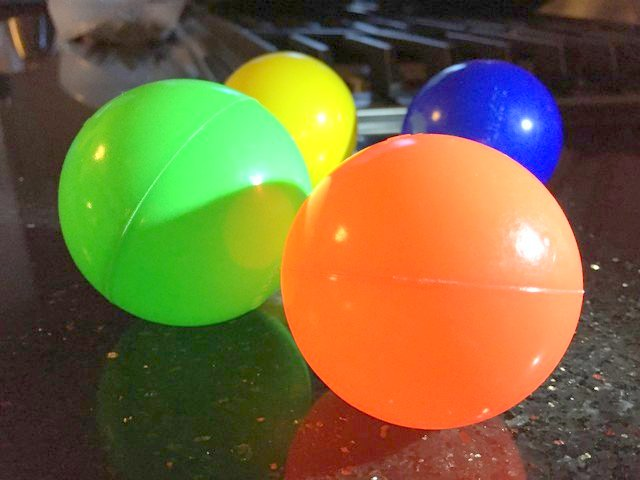ball: (282, 133, 585, 432)
